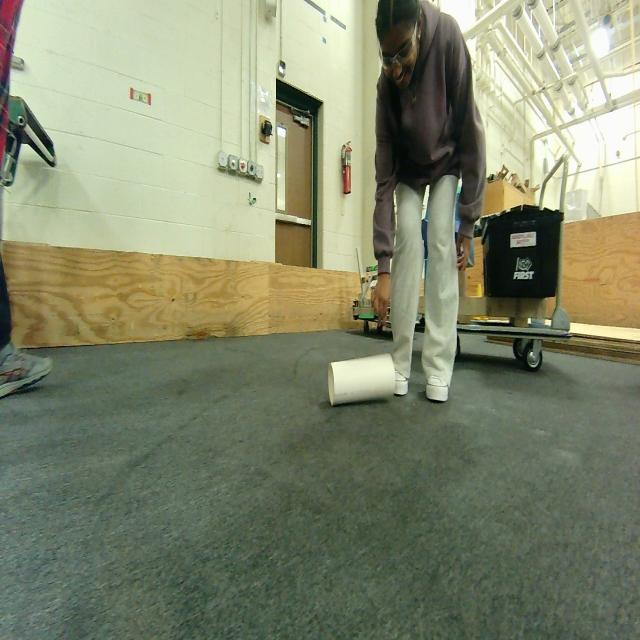coral: (328, 352, 399, 405)
